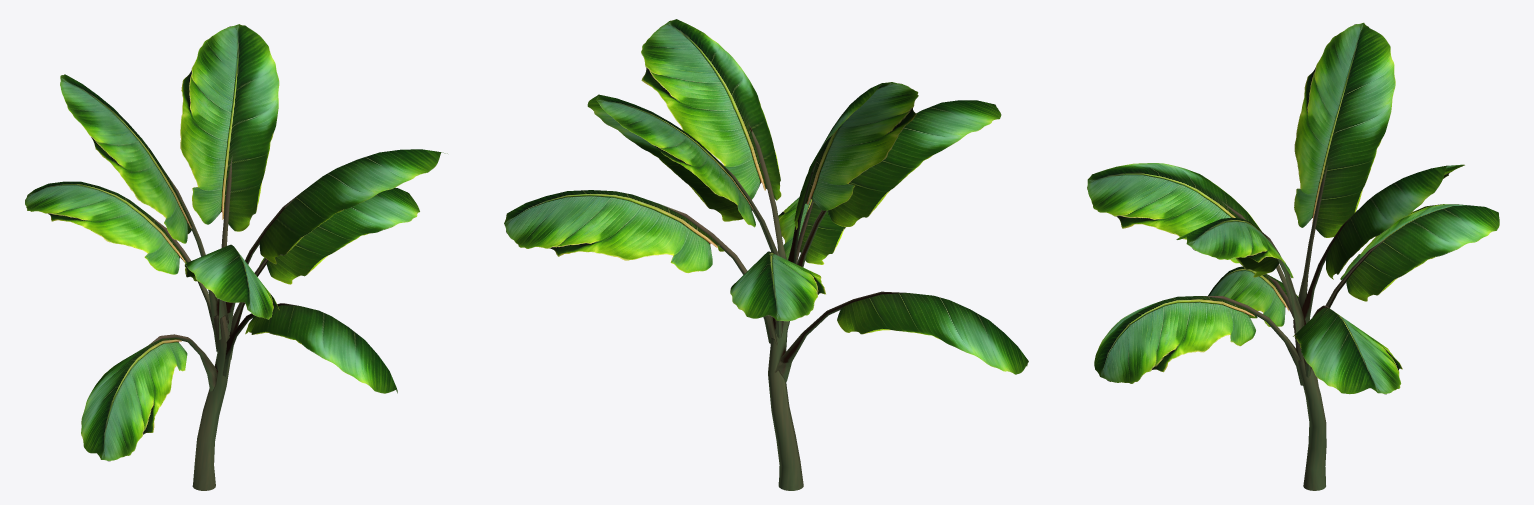
The model's file is banan_0.glb.
3 views of the same model, side by side, from view 1: azimuth 30°, elevation 25°; view 2: azimuth 150°, elevation 25°; view 3: azimuth 270°, elevation 25° (orthographic). The views are drawn at different scales.
Visible parts, largest first — view 1: SM_MZRa_Banana_B091_MI_MZRa_Banana_B09a_0, SM_MZRa_Banana_B091_MI_MZRa_Banana_B09b_0; view 2: SM_MZRa_Banana_B091_MI_MZRa_Banana_B09a_0, SM_MZRa_Banana_B091_MI_MZRa_Banana_B09b_0; view 3: SM_MZRa_Banana_B091_MI_MZRa_Banana_B09a_0, SM_MZRa_Banana_B091_MI_MZRa_Banana_B09b_0.
Boxes of the visible parts, x1,y1,x2,y2 form: SM_MZRa_Banana_B091_MI_MZRa_Banana_B09a_0: (25, 24, 447, 461); SM_MZRa_Banana_B091_MI_MZRa_Banana_B09b_0: (148, 156, 301, 490); SM_MZRa_Banana_B091_MI_MZRa_Banana_B09a_0: (504, 19, 1028, 374); SM_MZRa_Banana_B091_MI_MZRa_Banana_B09b_0: (661, 122, 906, 490); SM_MZRa_Banana_B091_MI_MZRa_Banana_B09a_0: (1087, 22, 1499, 394); SM_MZRa_Banana_B091_MI_MZRa_Banana_B09b_0: (1203, 163, 1386, 490).
Bounding box in the file's own units: 2.86 × 2.72 × 2.66.
Materials: 2 (2 with a texture image).
